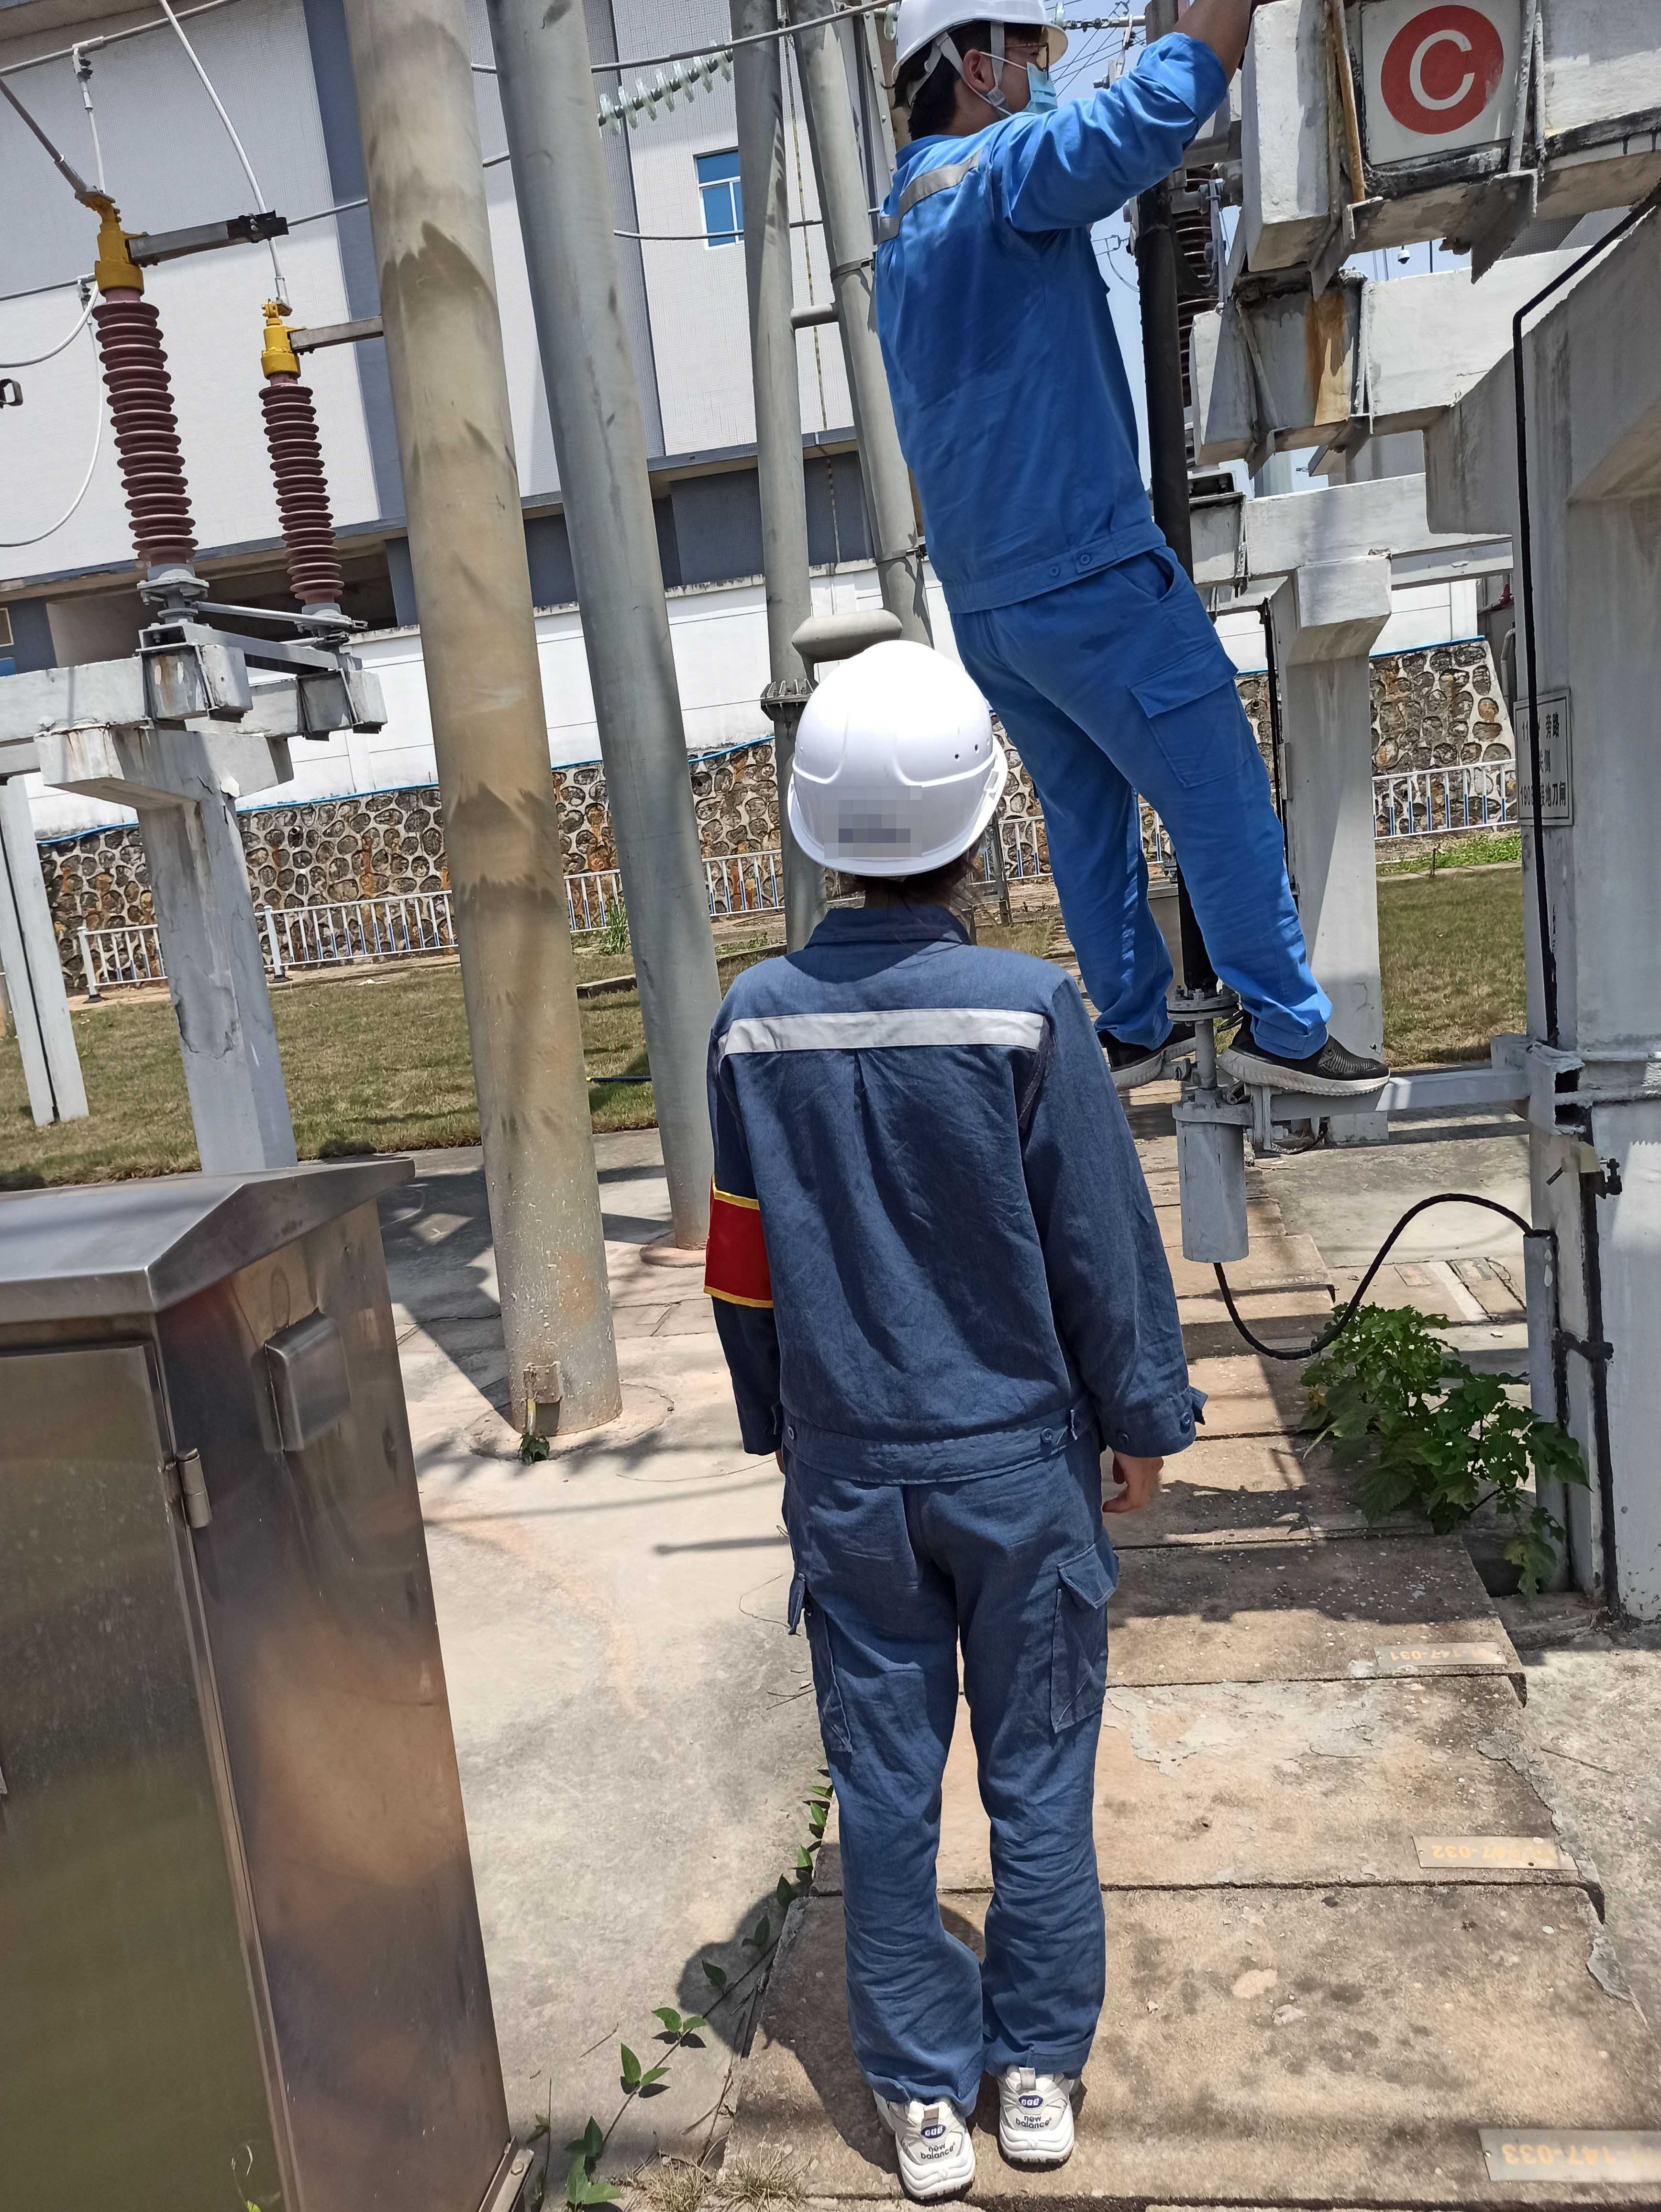downsuit: (780, 1497, 1132, 2092), (951, 588, 1326, 1043)
upsuit: (705, 935, 1190, 1467), (865, 45, 1209, 586)
wrongtop: (1127, 2, 1289, 101)
